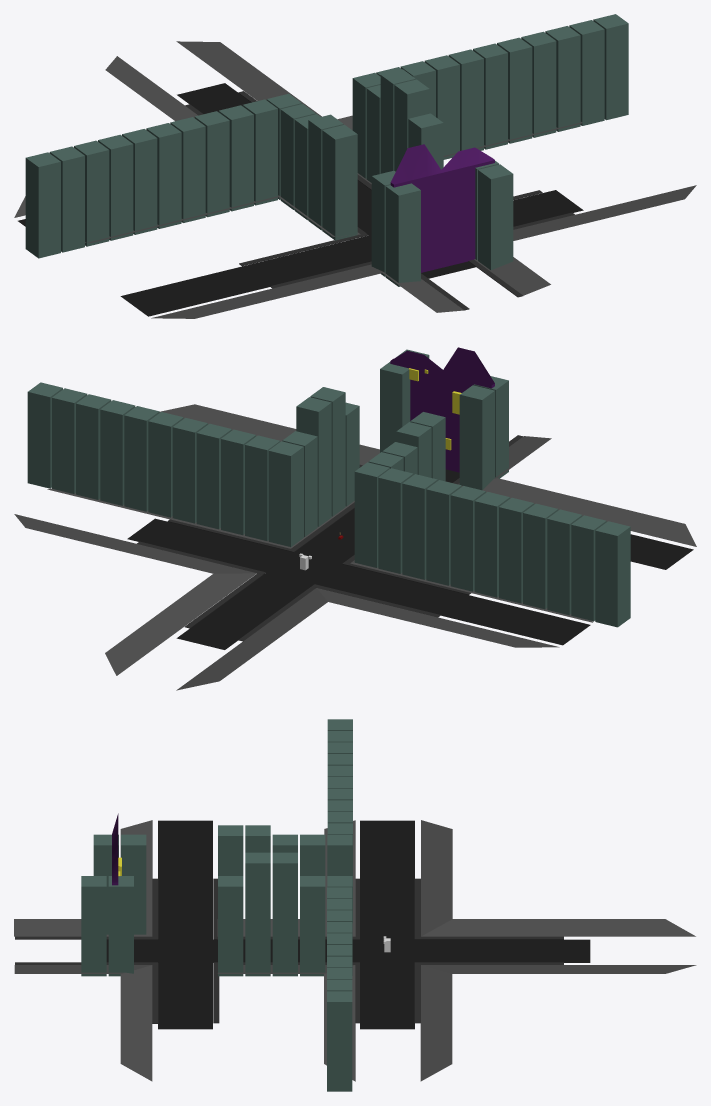
Rendered from environmentDraft01.FBX.
3 views of the same model, one above another, from view 1: azimuth 30°, elevation 25°; view 2: azimuth 150°, elevation 25°; view 3: azimuth 270°, elevation 25° (orthographic).
Parts seen in each view (by area): view 1: Plane003, monster, Box023, Box038, Box018, Box028, Box039, Box040, Box036, Box043, Box042, Box041 (+30 smaller); view 2: Plane002, Plane001, monster, ground006, ground014, Box038, Box001, Box027, ground008, Box039, ground005, Box037 (+34 smaller); view 3: Plane003, Plane002, Plane001, ground008, ground012, ground007, ground005, Box012, Box011, Box039, Box018, Box013 (+15 smaller).
Boxes of the visible parts, x1,y1,x2,y2 form: Plane003: (120,190,583,316); monster: (390,144,494,272); Box023: (322,124,357,240); Box038: (25,152,60,258); Box018: (478,164,513,270); Box028: (385,183,420,286); Box039: (593,14,628,120); Box040: (569,20,604,125); Box036: (74,140,109,246); Box043: (497,37,532,143); Box042: (521,31,556,137); Box041: (545,26,580,131); Plane002: (127,518,590,645); Plane001: (176,469,459,649); monster: (390,347,494,472); ground006: (105,573,256,675); ground014: (461,478,696,546); Box038: (595,521,630,627); Box001: (268,441,303,547); Box027: (459,385,494,490); ground008: (176,588,327,690); Box039: (27,382,62,488); ground005: (317,588,559,647); Box037: (571,515,606,621); Plane003: (158,820,212,1029); Plane002: (360,820,414,1029); Plane001: (106,939,590,962); ground008: (421,919,695,936); ground012: (120,965,152,1081); ground007: (420,965,452,1081); ground005: (421,820,452,936); Box012: (245,852,270,976); Box011: (272,852,297,976); Box039: (327,991,352,1091); Box018: (81,876,106,976); Box013: (218,876,243,976).
Size of the model in its own units: 125 by 25.5 by 128.
